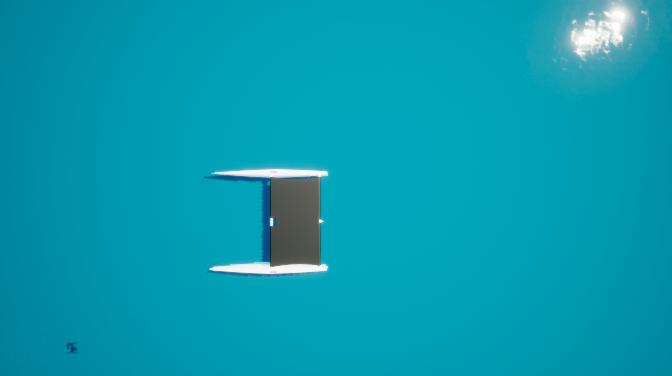boat: (207, 169, 333, 279)
drone: (63, 341, 82, 357)
land_base: (271, 177, 320, 266)
light_reflex: (524, 2, 672, 76)
